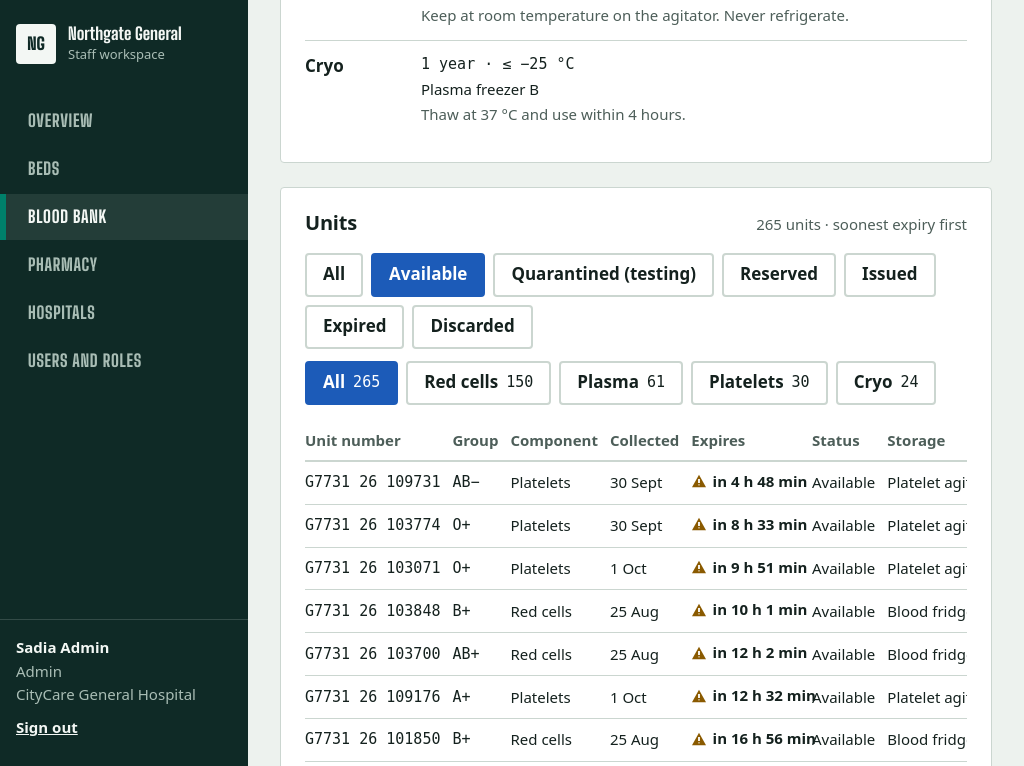
Test: BloodPage › lists units soonest-expiry first and filters by component
(page scrolled)
Step 1. Click the button "Platelets 30" → click(759, 383), box top-left (691, 361), bottom-right (828, 405)
(page scrolled)
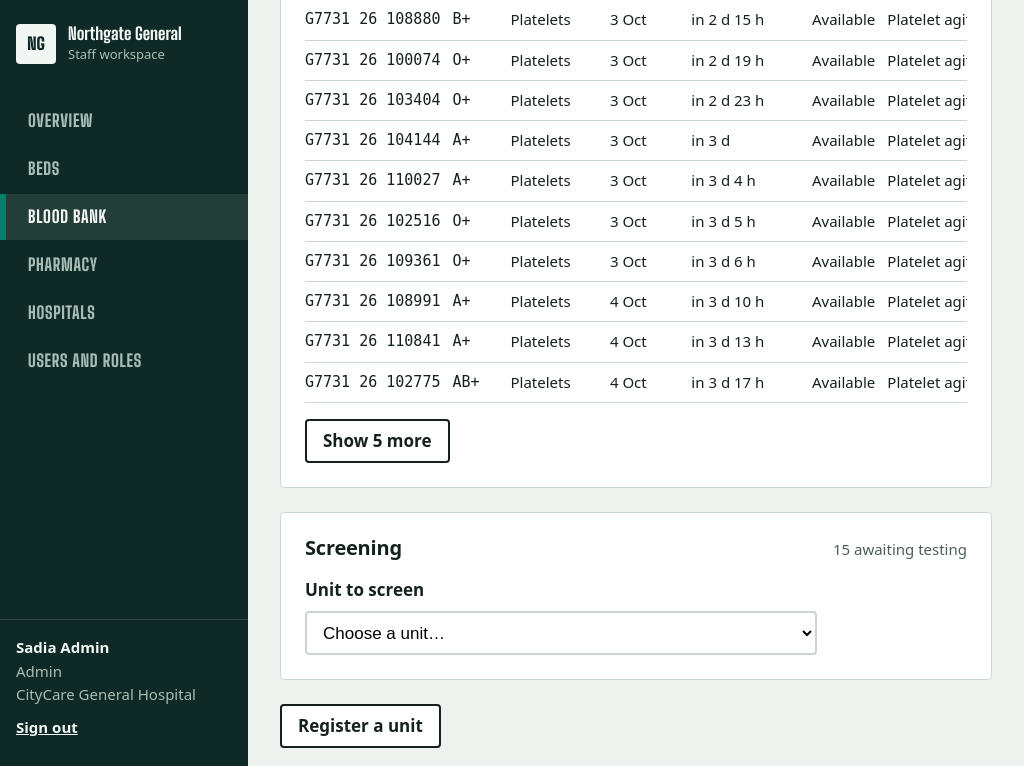
Expected: the row that starts with "G7731 26 108880" shows "Platelets", top-left (510, 9), bottom-right (571, 29)
Expected: the row that starts with "G7731 26 100074" shows "Platelets", top-left (510, 50), bottom-right (571, 70)
Expected: the row that starts with "G7731 26 103404" shows "Platelets", top-left (510, 90), bottom-right (571, 110)
